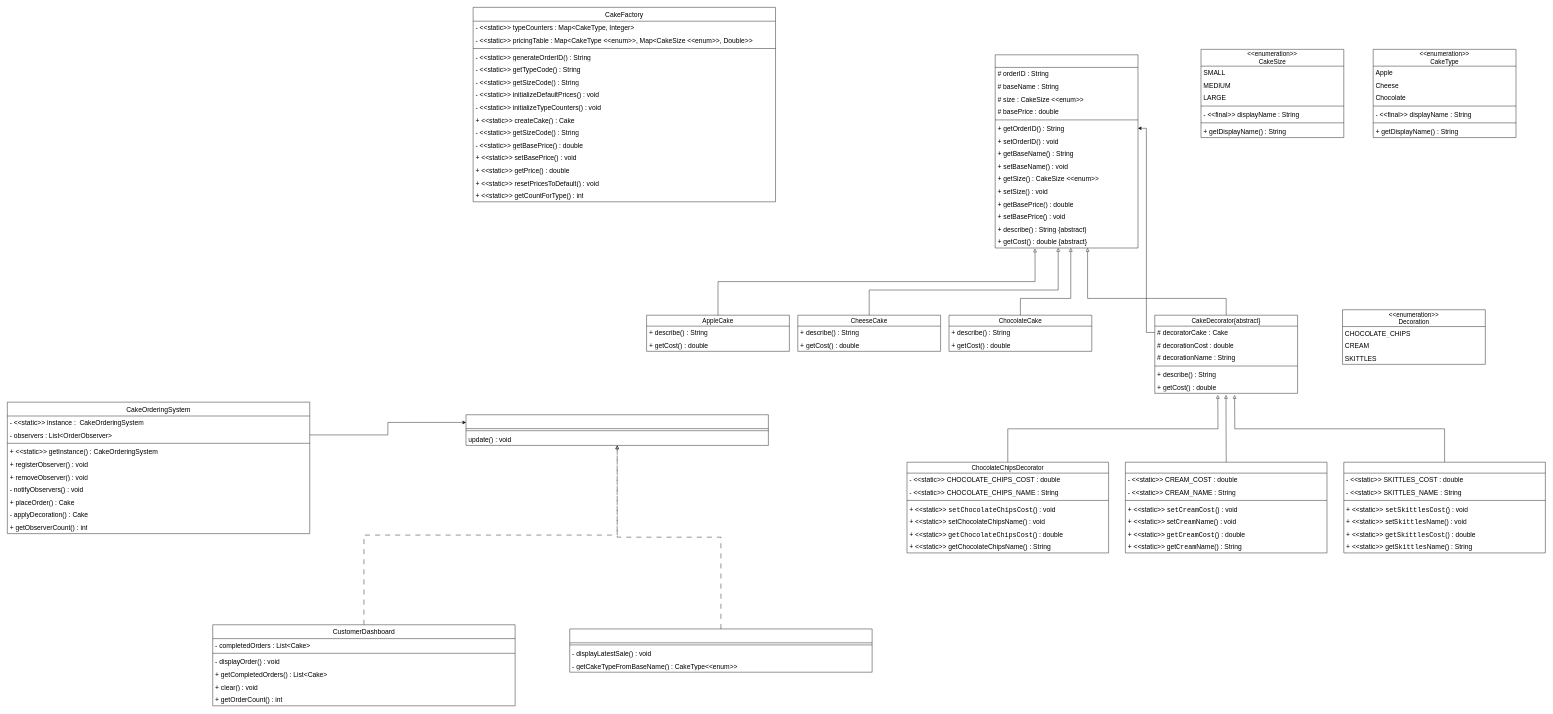
This 1553x714 diagram has some shape labels left out. Here are the shapes that lost their labels. From the top down, the box of each, then its label:
(995, 54, 1138, 248): Cake{abstract}
(466, 414, 768, 445): OrderObserver{interface}
(1125, 462, 1327, 553): CreamDecorator
(1343, 462, 1545, 553): SkittlesDecorator
(569, 629, 872, 672): ManagerDashboard
